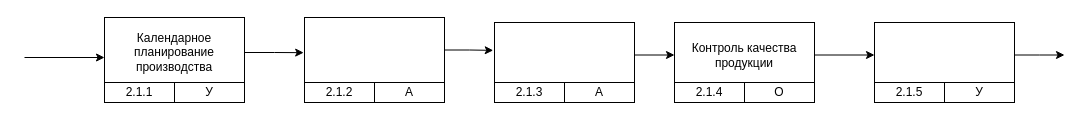
The diagram is 1090 pixels wide and 120 high, and some of its shapes have lost their labels. The shapes that lost their labels are listed below. From the top down, each one's box as (x1, y1, x2, y2) in pixels, then its label:
(304, 16, 444, 82): Формирование заданий (заказ-нарядов) на производство
(494, 22, 634, 88): Учет фактических объемов выпуска продукции
(874, 22, 1014, 88): Учет брака и отклонений
